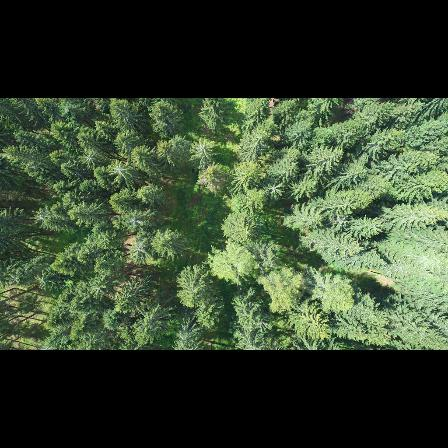Sick: (190, 136, 214, 164), (129, 239, 153, 264), (32, 205, 58, 228), (126, 207, 150, 231), (262, 178, 289, 198), (108, 156, 133, 177), (80, 147, 100, 168)
